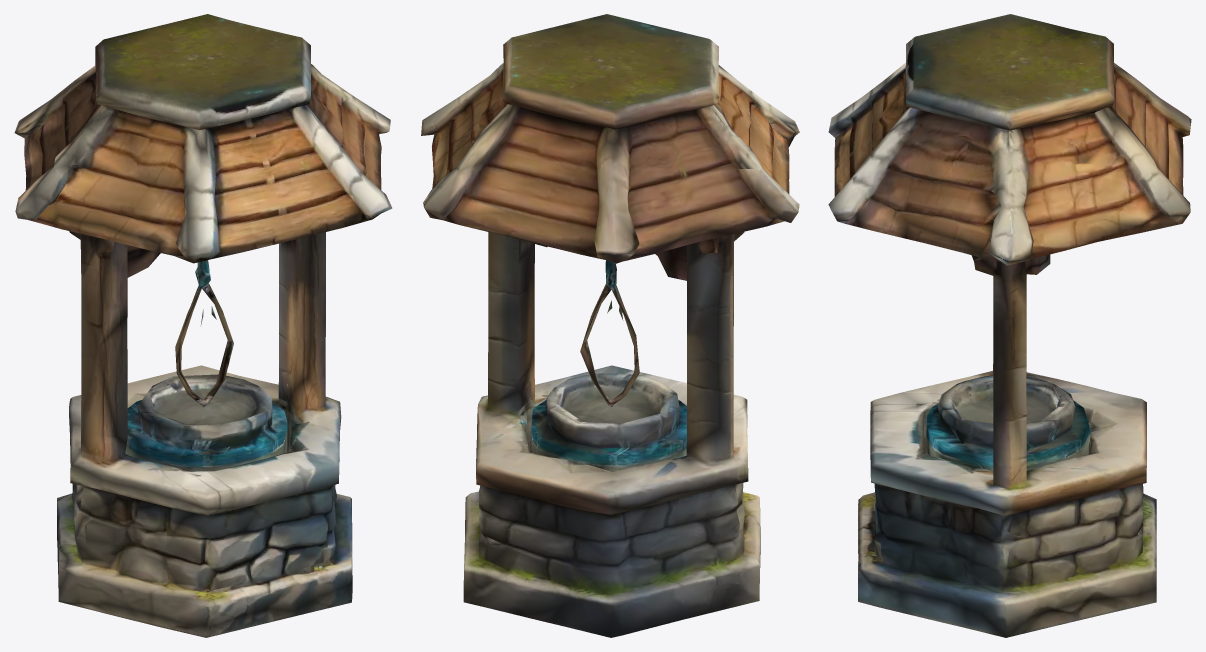
Rendered from brunnen.glb.
3 renders of one model, left to right at view 1: azimuth 30°, elevation 25°; view 2: azimuth 150°, elevation 25°; view 3: azimuth 270°, elevation 25°, orthographic.
Visible parts, largest first — view 1: baum; view 2: baum; view 3: baum.
Boxes of the visible parts, x1,y1,x2,y2 form: baum: (14, 14, 392, 637); baum: (421, 14, 799, 637); baum: (828, 14, 1191, 637).
Size of the model in its own units: 2.03 by 2.6 by 1.69.
1 material, 1 textured.
